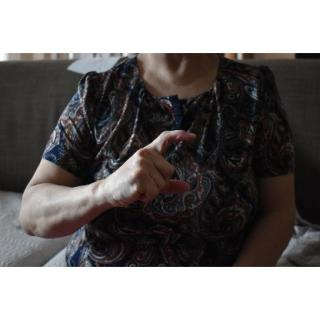DELL: (98, 124, 203, 210)
